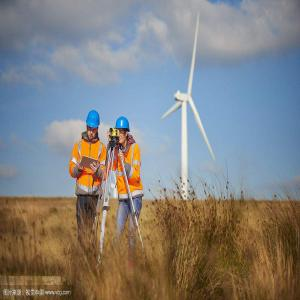blue: (86, 111, 101, 141), (116, 116, 130, 147)
